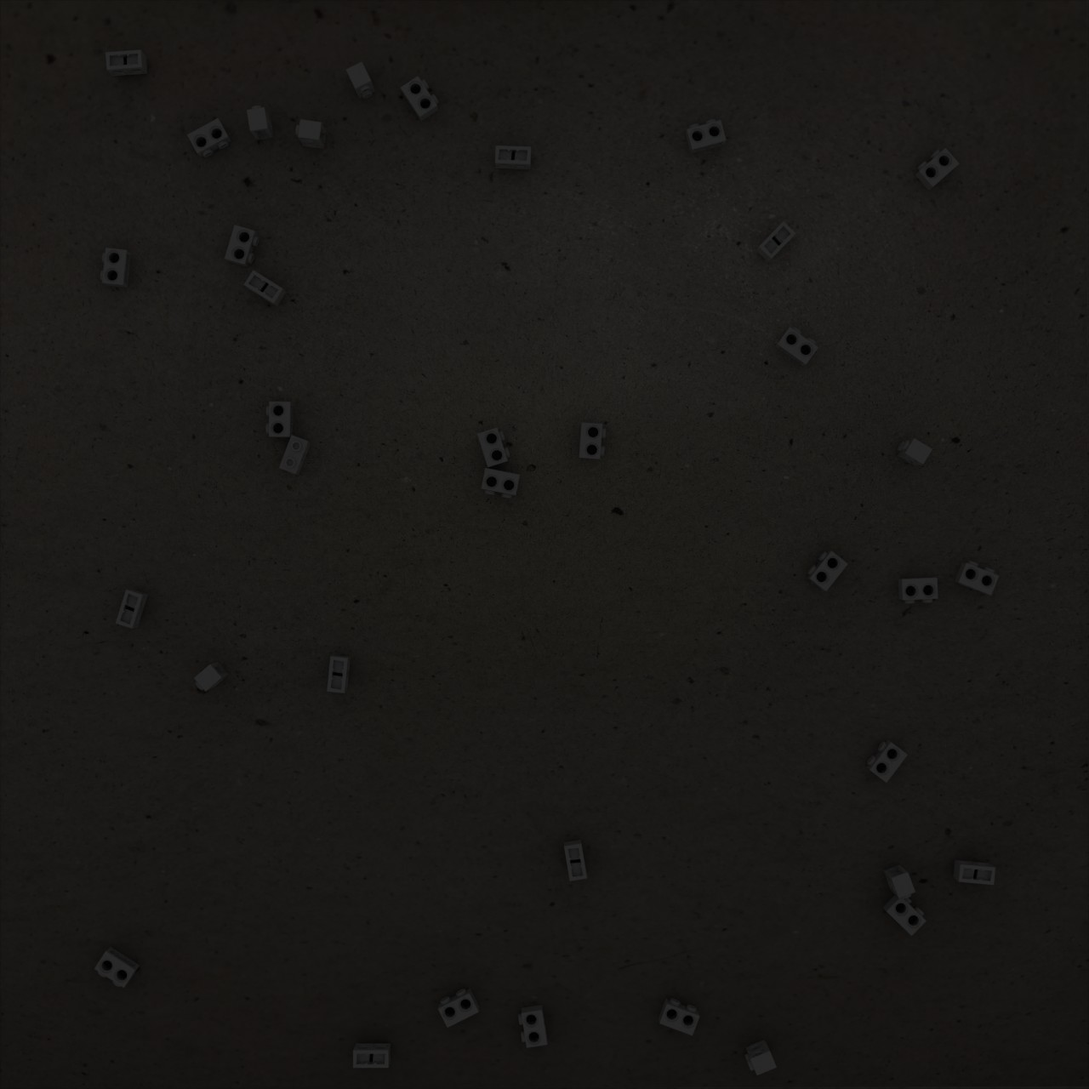lego: (883, 892, 927, 936), (915, 148, 960, 191), (94, 946, 140, 988), (866, 740, 908, 783), (187, 118, 232, 158), (400, 76, 439, 122), (775, 327, 819, 367), (807, 551, 848, 592), (756, 221, 796, 263), (438, 988, 480, 1028), (658, 998, 700, 1036), (244, 270, 287, 307), (954, 560, 999, 595), (224, 225, 259, 268), (685, 119, 726, 154), (477, 427, 511, 468), (115, 589, 148, 629), (279, 435, 311, 475), (518, 1005, 547, 1048), (100, 248, 131, 288), (744, 1039, 777, 1076), (481, 468, 520, 499), (883, 865, 916, 899), (105, 50, 148, 76), (346, 61, 375, 99), (194, 661, 229, 692), (898, 577, 938, 604), (953, 860, 996, 885), (579, 422, 606, 460), (897, 438, 933, 466), (266, 401, 293, 438), (564, 839, 587, 881), (353, 1043, 391, 1068), (247, 106, 274, 140), (327, 655, 351, 693), (296, 119, 326, 149), (495, 145, 531, 170)
